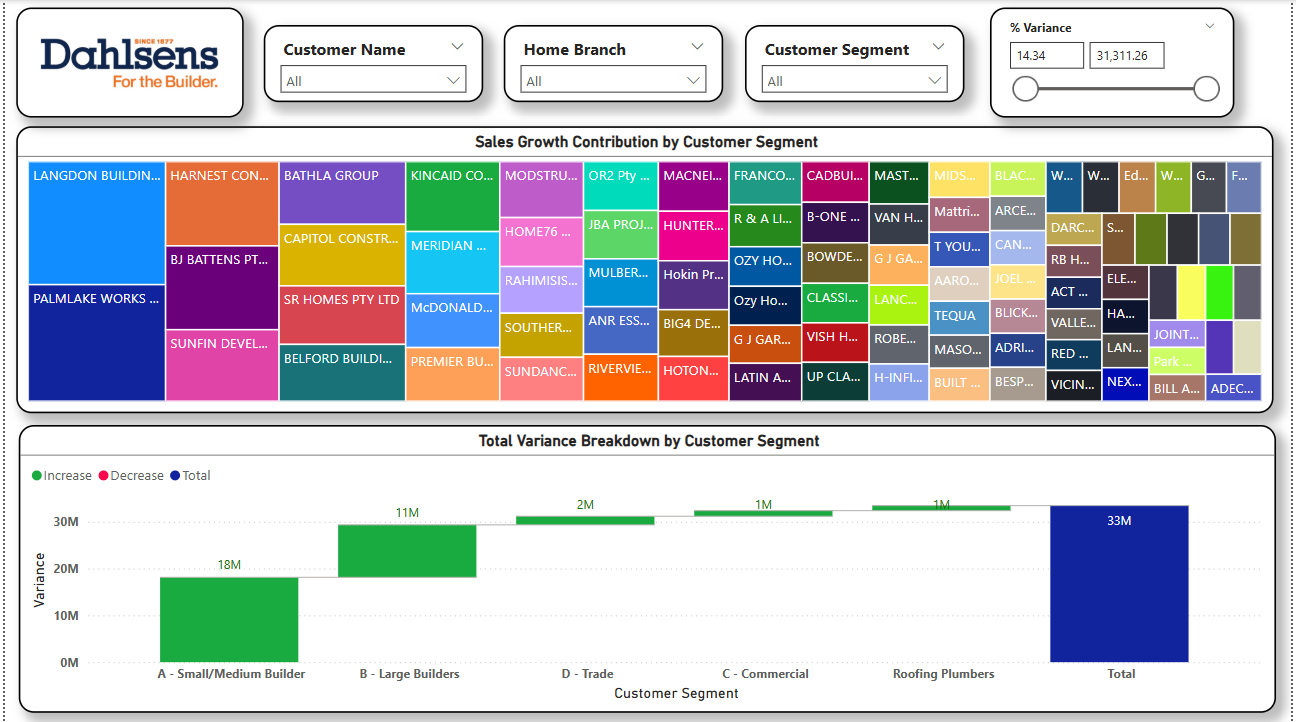

The dashboard page shown, as its layout file describes it:
{"tool":"powerbi","page":{"name":"Growth 2","canvas":[1280,720],"ordinal":4},"visuals":[{"type":"treemap","title":"Sales Growth Contribution by Customer Segment","fields":{"Values":["Sum(Growth.Variance)"],"Group":["Growth.Customer Name"]},"box":[11,126.2,1251.5,285.4],"z":0},{"type":"waterfallChart","title":"Total Variance Breakdown by Customer Segment","fields":{"Y":["Sum(Growth.Variance)"],"Category":["Growth.Customer Segment"]},"box":[13.7,422.6,1251.5,286.8],"z":1000},{"type":"image","box":[11,6.9,226.4,109.8],"z":2000},{"type":"slicer","fields":{"Values":["Growth.Customer Name"]},"box":[258,24.7,218.2,76.8],"z":3000},{"type":"slicer","fields":{"Values":["Growth.Home Branch"]},"box":[496.7,24.7,218.2,76.8],"z":4000},{"type":"slicer","fields":{"Values":["Growth.Customer Segment"]},"box":[736.9,24.7,218.2,76.8],"z":5000},{"type":"slicer","fields":{"Values":["Growth.% Variance"]},"box":[979.8,6.9,242.9,109.8],"z":6000}]}

Visuals, with their boxes in screenshot pixels (x1, y1, x2, y2), scaled from the page's 1280x720 canvas onto the 1296x722 screenshot:
"Sales Growth Contribution by Customer Segment" treemap: bbox=[11, 127, 1278, 413]
"Total Variance Breakdown by Customer Segment" waterfallChart: bbox=[14, 424, 1281, 711]
image: bbox=[11, 7, 240, 117]
slicer - Growth.Customer Name: bbox=[261, 25, 482, 102]
slicer - Growth.Home Branch: bbox=[503, 25, 724, 102]
slicer - Growth.Customer Segment: bbox=[746, 25, 967, 102]
slicer - Growth.% Variance: bbox=[992, 7, 1238, 117]
